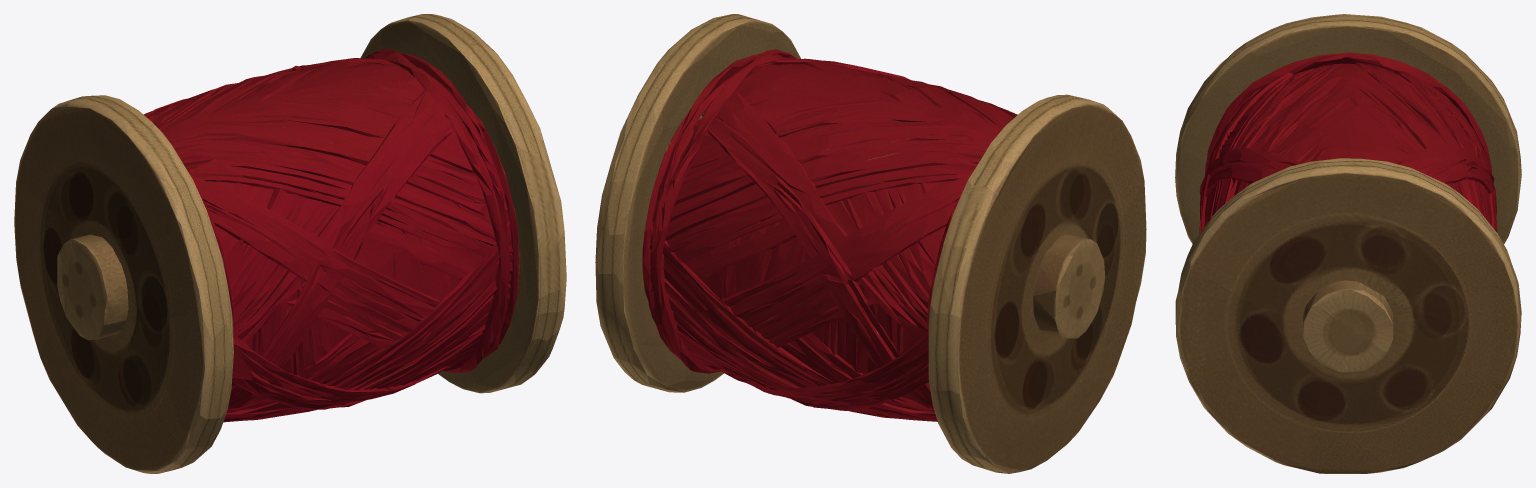
File: ITM_RED_THREAD_001.glb
3 renders of one model, left to right at view 1: azimuth 30°, elevation 25°; view 2: azimuth 150°, elevation 25°; view 3: azimuth 270°, elevation 25°, orthographic. The views are drawn at different scales.
Size of the model in its own units: 1.9 by 1.49 by 1.52.
1 material, 1 textured.
